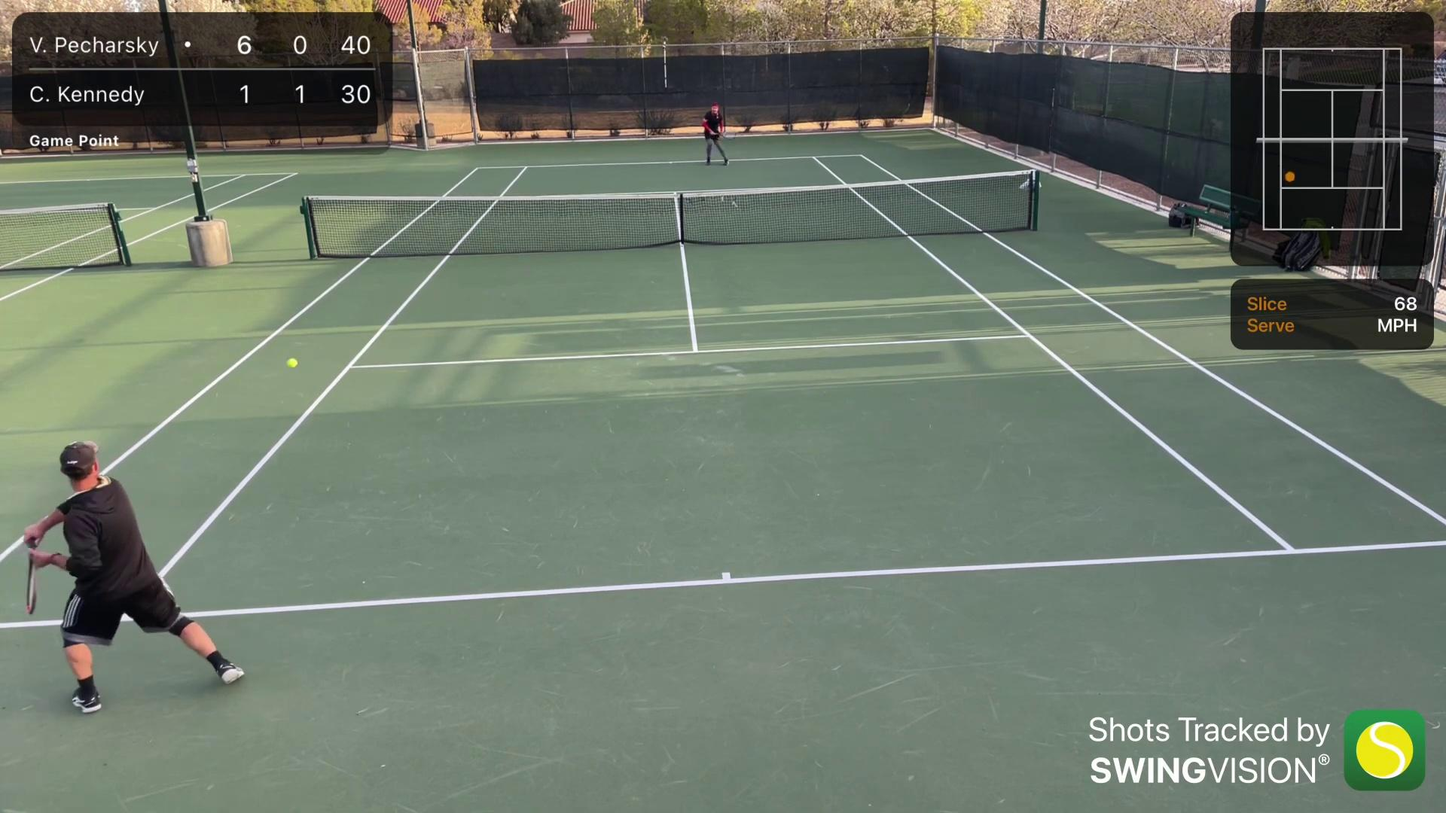ball: (283, 356, 302, 371)
